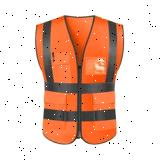Vest: (34, 14, 124, 145)
